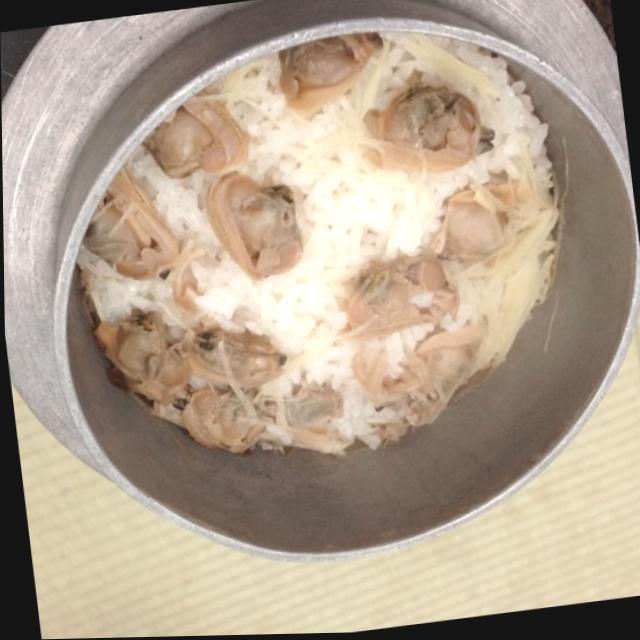带馅早点: (139, 0, 588, 635)
